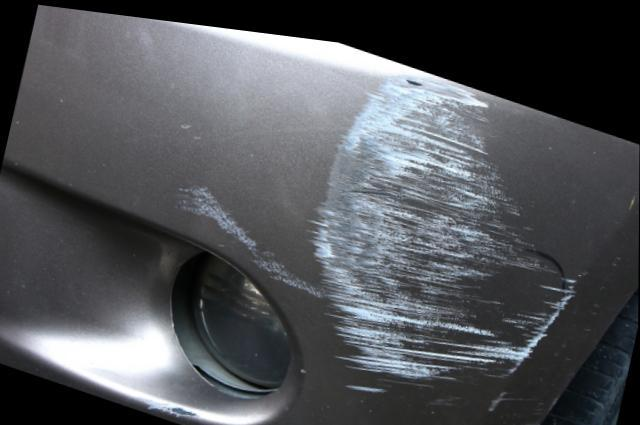scratch: (166, 53, 588, 425), (130, 392, 244, 425), (609, 117, 640, 142)
